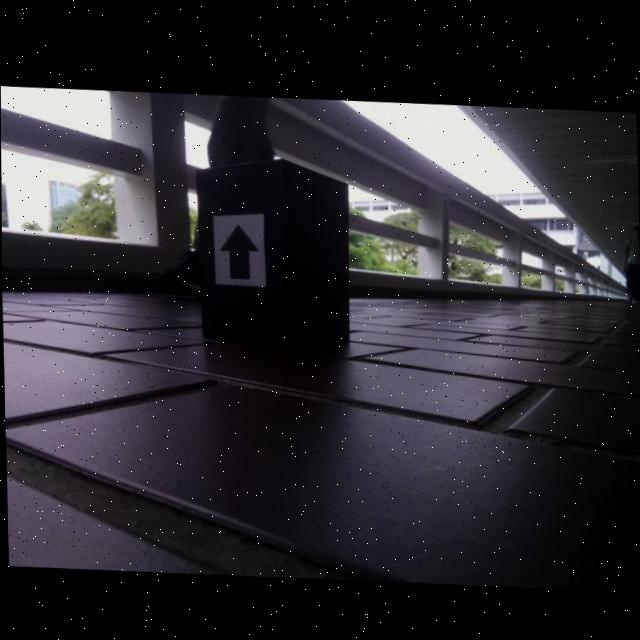UP: (217, 220, 261, 278)
